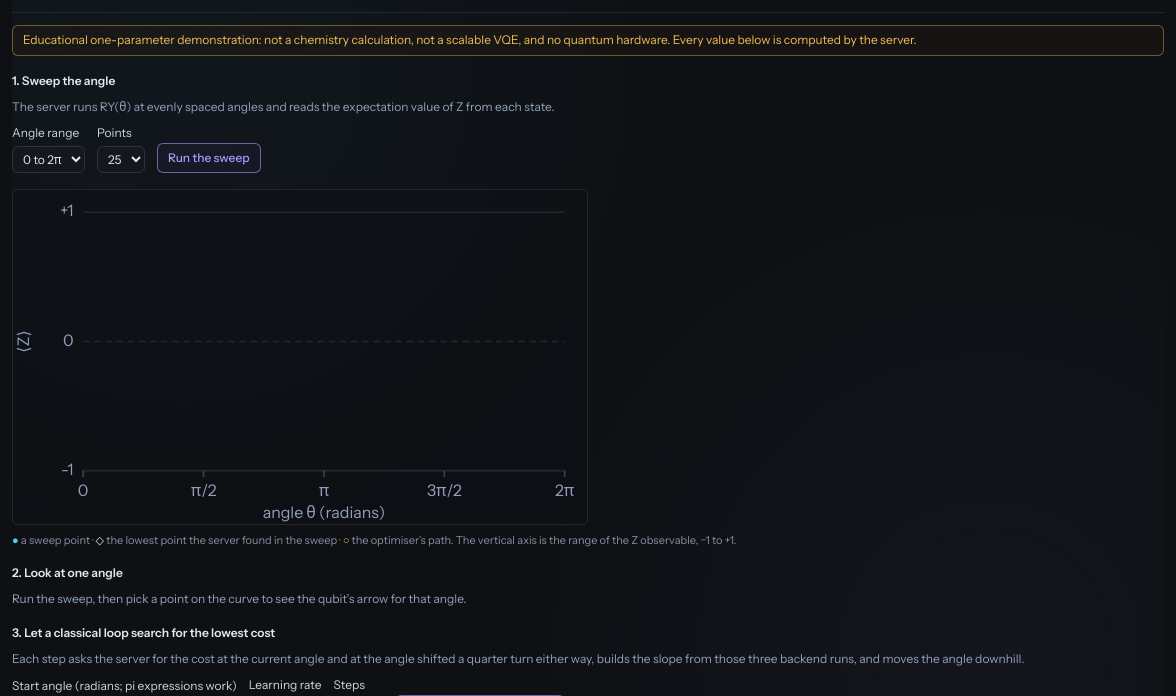
Test: the sweep › starts at the point the SERVER named lowest and shows its values with that run’s provenance
Click the button "Run the sweep" at (209, 158), box x1=157 y1=142 x2=261 y2=172
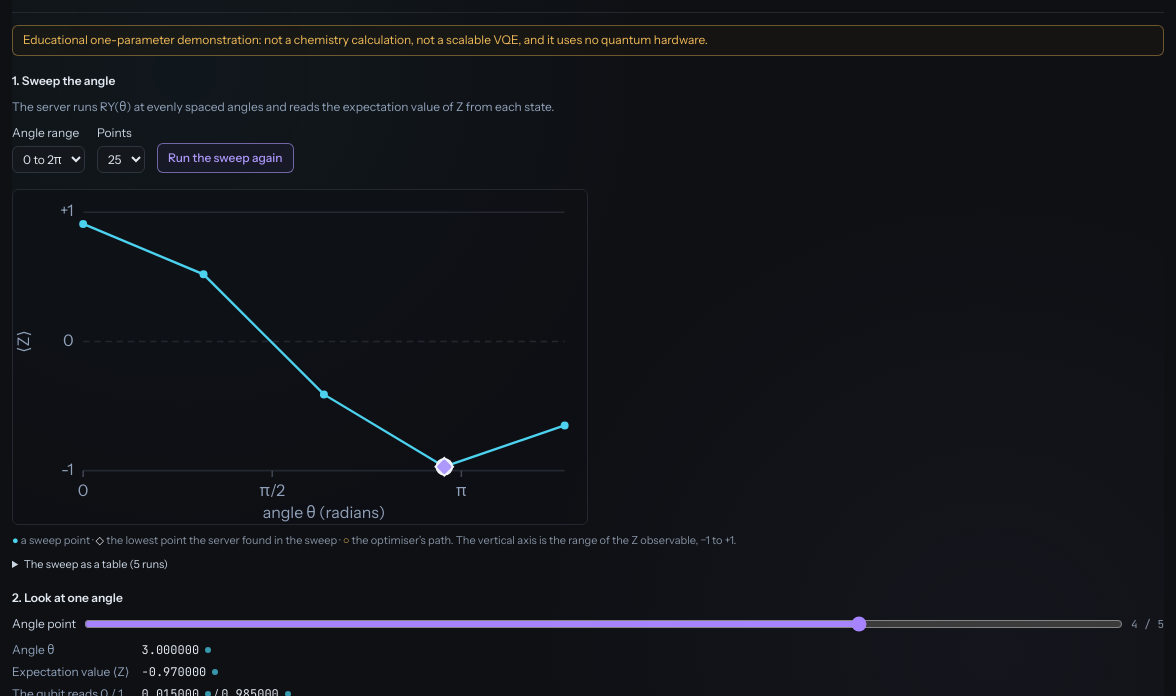
Result: the text "-0.970000" is shown at x1=142 y1=663 x2=218 y2=681
Result: the text "3.000000" is shown at x1=142 y1=641 x2=211 y2=659
Result: the slider holds "3" at x1=84 y1=616 x2=1123 y2=632
